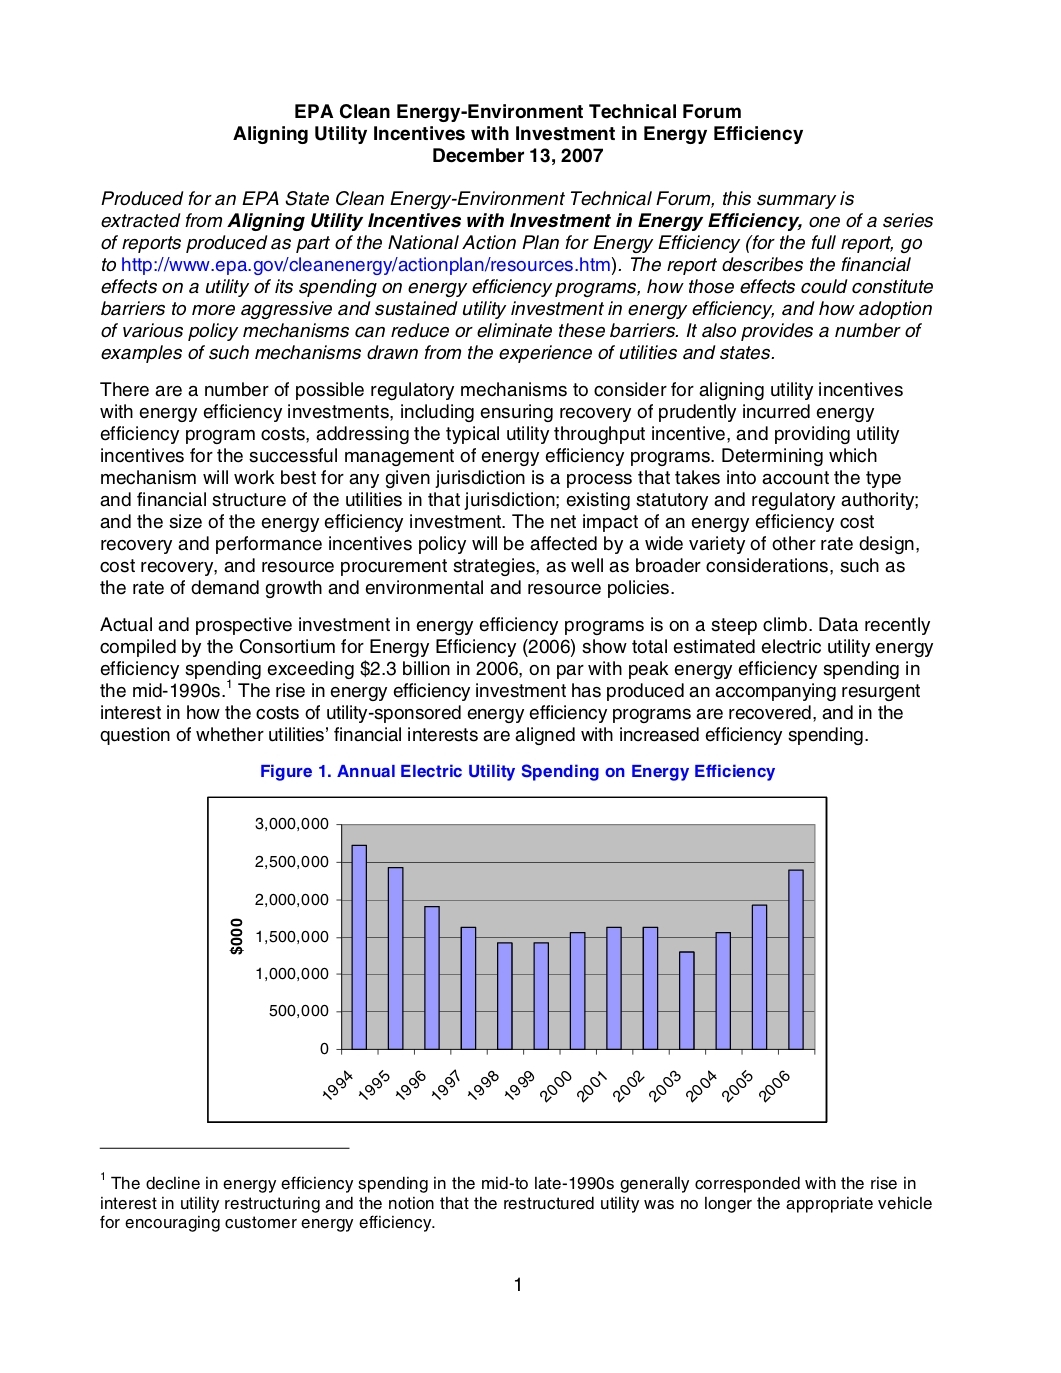figure: (207, 795, 827, 1123)
